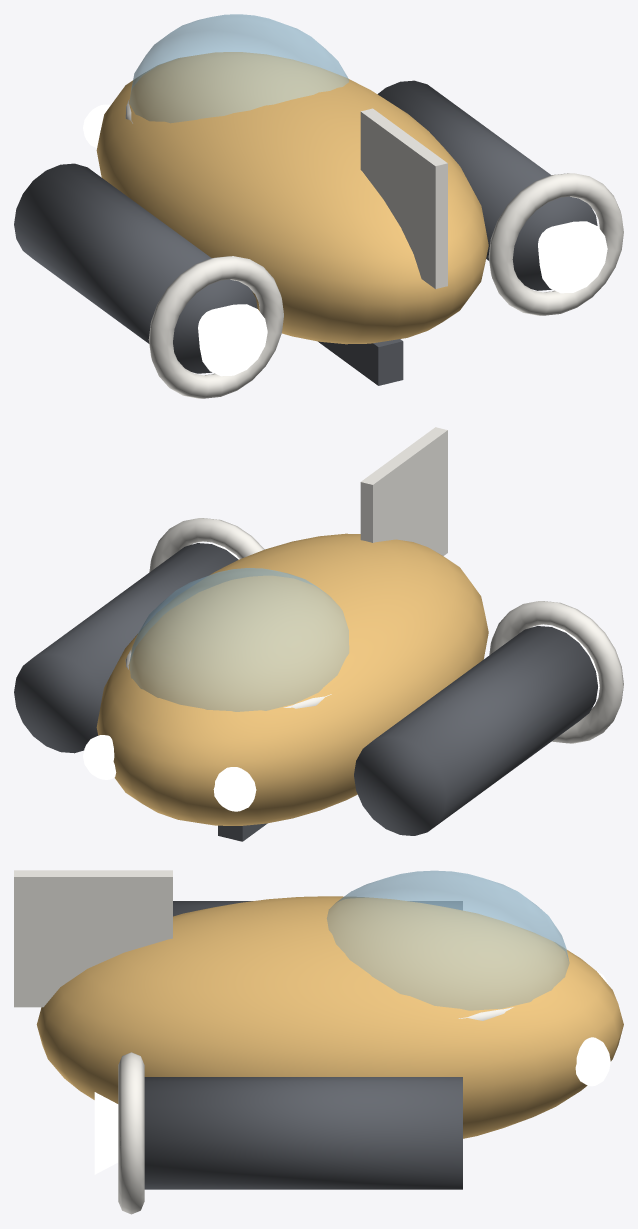
The model's file is pod.glb.
3 renders of one model, top to bottom at view 1: azimuth 30°, elevation 25°; view 2: azimuth 150°, elevation 25°; view 3: azimuth 270°, elevation 25°, orthographic. The views are drawn at different scales.
Visible parts, largest first — view 1: Pod; view 2: Pod; view 3: Pod.
Boxes of the visible parts, left/top/right/bottom form: Pod: left=14, top=14, right=623, bottom=398; Pod: left=14, top=427, right=623, bottom=841; Pod: left=14, top=870, right=623, bottom=1214.
Size of the model in its own units: 3.06 by 1.58 by 3.22.
